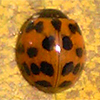Red: (16, 8, 85, 93)
